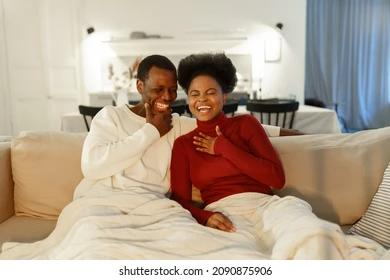blanket: (0, 193, 390, 260)
sweater: (73, 103, 282, 200), (169, 109, 288, 229)
